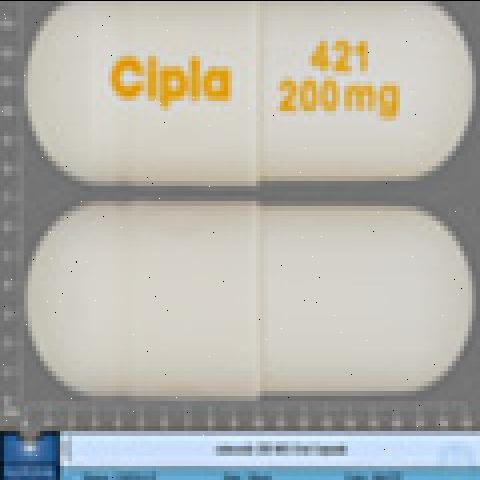Pill: (14, 188, 470, 410), (13, 0, 479, 198)
